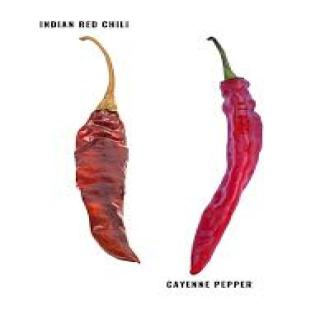Cabai Merah: (187, 42, 265, 278), (74, 36, 130, 277)
